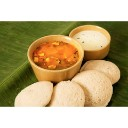idly: (74, 72, 113, 106), (14, 81, 52, 106), (84, 59, 120, 85), (54, 82, 86, 106)
